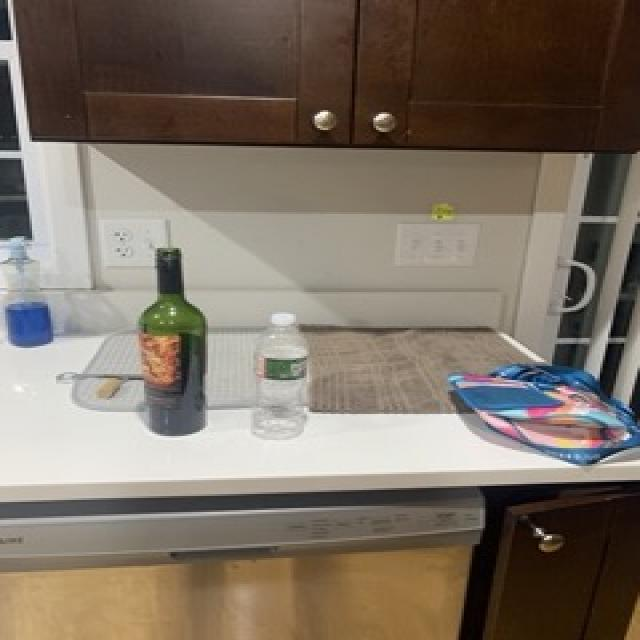water_bottle: (250, 309, 312, 442)
